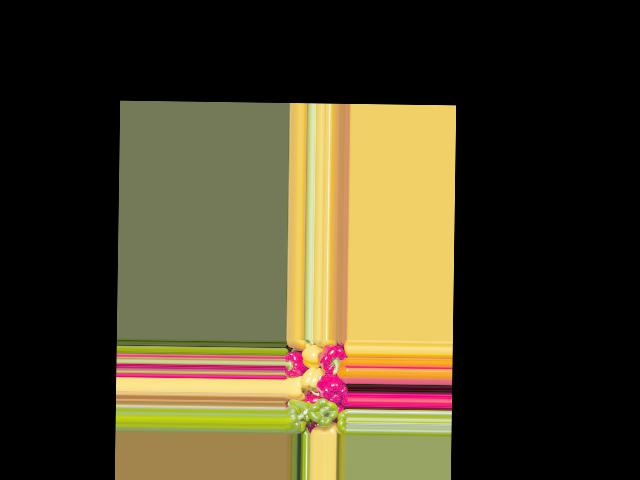bell_pepper: (333, 408, 348, 434)
